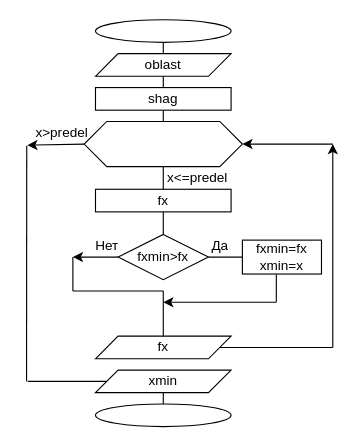
This 363x446 diagram has some shape labels left out. The centre of each missing label's shape, as x and y in pixels:
"x=1; x=<predel; x+=shag" belongs at [162,143].
"Конец" belongs at [162,415].
"Начало" belongs at [162,30].
